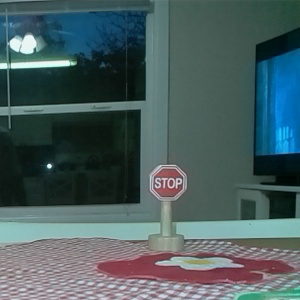stop sign: (146, 162, 189, 252)
